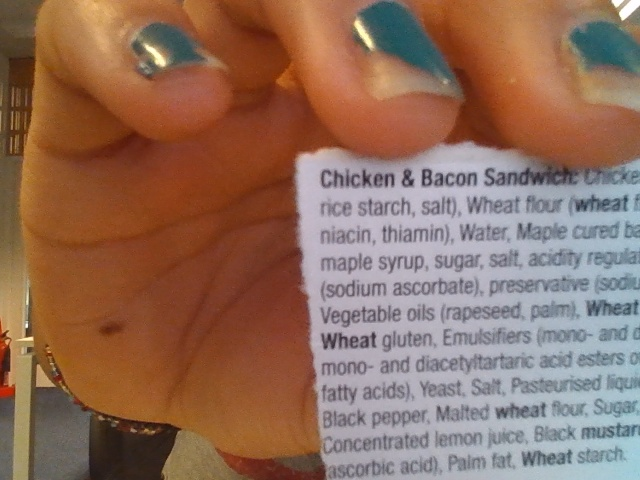chicken: (319, 169, 397, 190)
